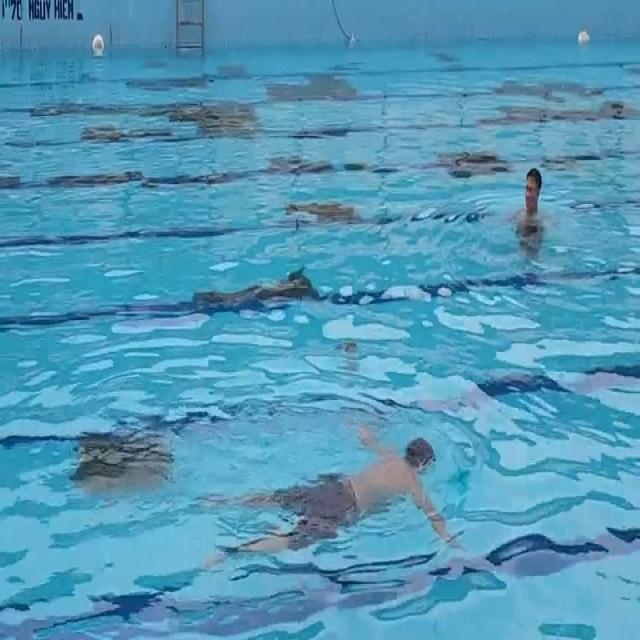Drowning: (214, 424, 463, 556)
Swimming: (508, 162, 548, 228)
